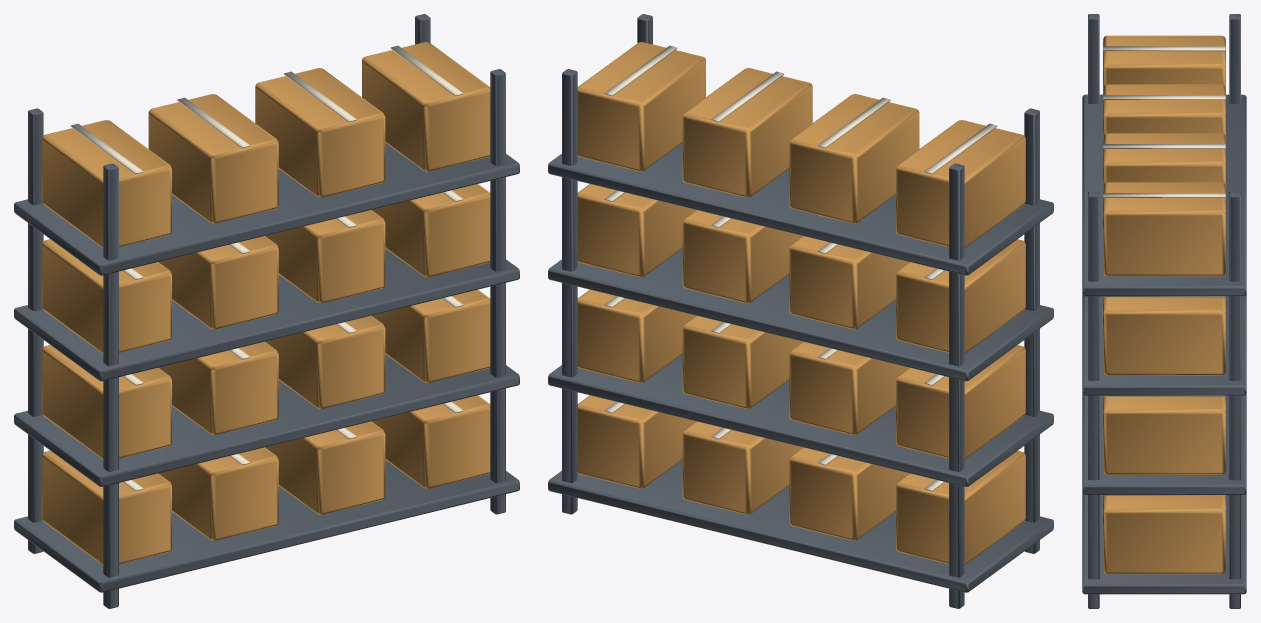
File: warehouse-storage-rack.glb
The picture shows the model from 3 angles, left to right: view 1: azimuth 30°, elevation 25°; view 2: azimuth 150°, elevation 25°; view 3: azimuth 270°, elevation 25°; orthographic projection. The views are drawn at different scales.
Parts seen in each view (by area): view 1: interior_4_woodLight, interior_4_metal, interior_4_ivory; view 2: interior_4_woodLight, interior_4_metal, interior_4_ivory; view 3: interior_4_woodLight, interior_4_metal, interior_4_ivory.
Boxes of the visible parts, bbox=[...] form: interior_4_woodLight: bbox=[42, 42, 490, 564]; interior_4_metal: bbox=[14, 14, 519, 608]; interior_4_ivory: bbox=[70, 45, 463, 491]; interior_4_woodLight: bbox=[577, 42, 1025, 564]; interior_4_metal: bbox=[548, 14, 1053, 608]; interior_4_ivory: bbox=[604, 45, 997, 491]; interior_4_woodLight: bbox=[1103, 35, 1225, 574]; interior_4_metal: bbox=[1082, 14, 1246, 608]; interior_4_ivory: bbox=[1103, 46, 1225, 495].
Size of the model in its own units: 2.5 by 2.5 by 0.9.
